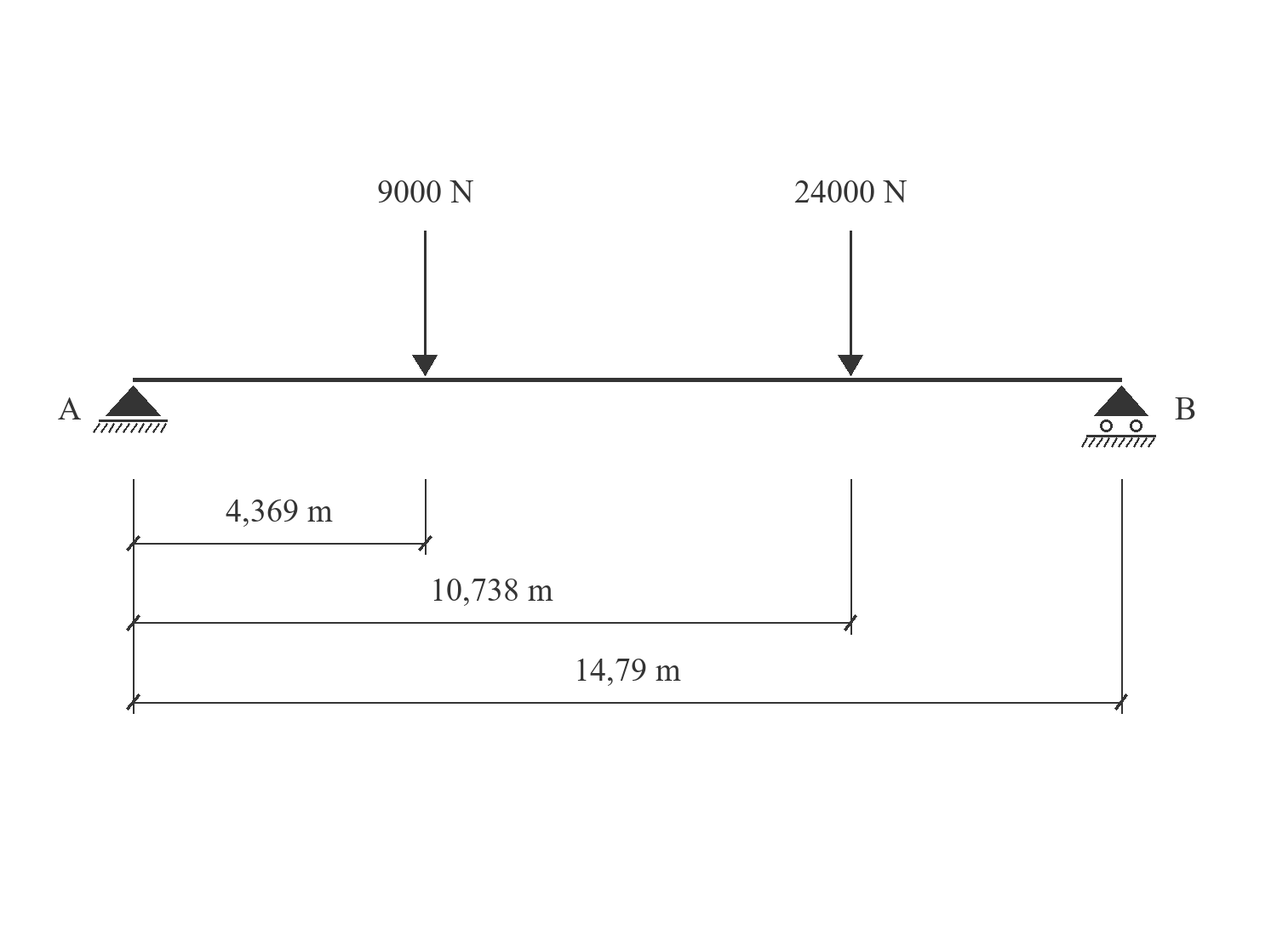pin_support: (93, 385, 168, 433)
point_load: (412, 231, 438, 376), (838, 231, 863, 376)
roller_support: (1081, 385, 1156, 448)
